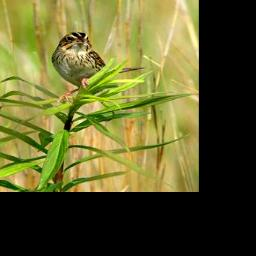Sparrow: (50, 30, 147, 109)
